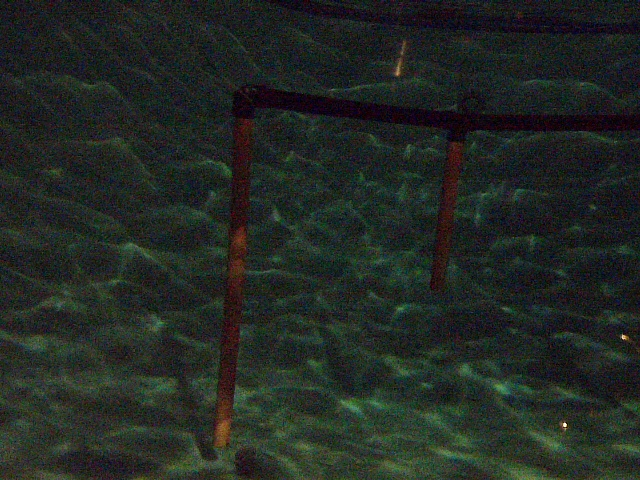Gate: (210, 110, 259, 448), (426, 127, 469, 291)
